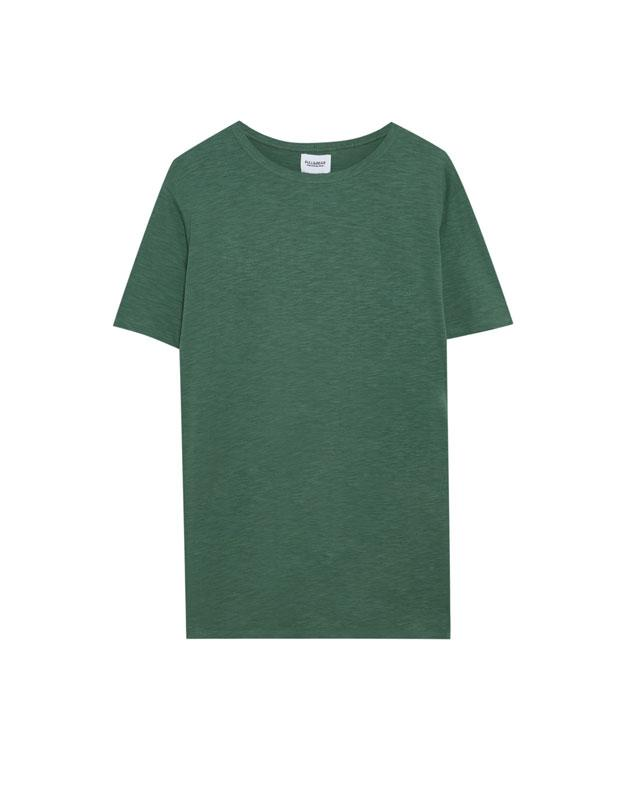teeshirt: (91, 101, 540, 680)
